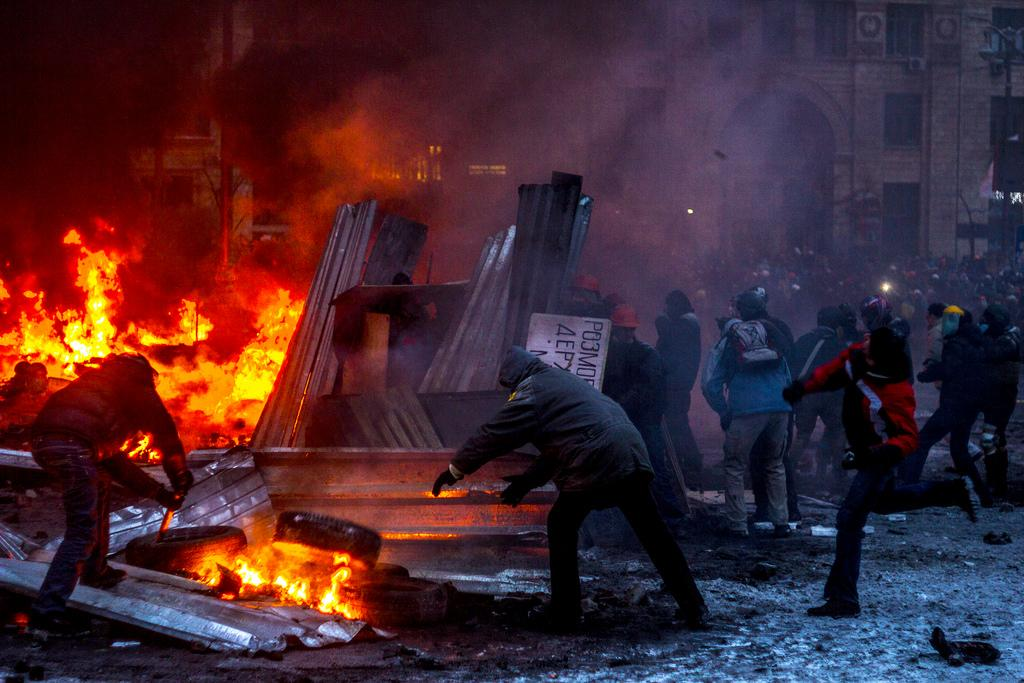fire: (15, 308, 103, 360), (218, 560, 345, 590), (232, 340, 278, 405)
smoke: (542, 40, 743, 200)
